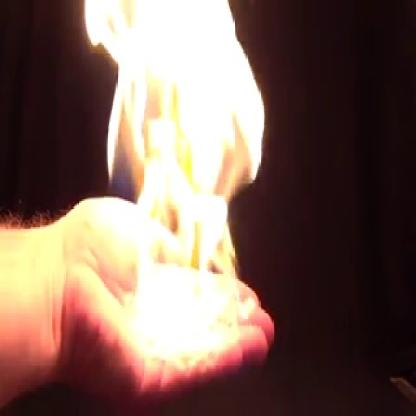fire: (78, 0, 271, 345)
